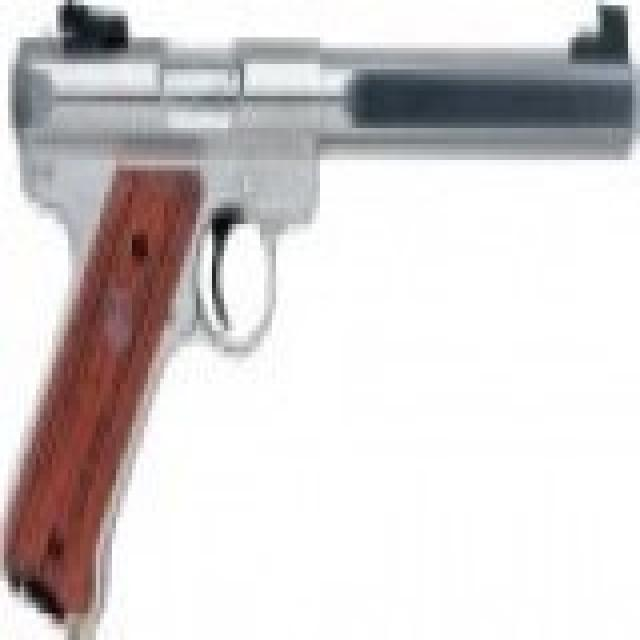Gun: (0, 0, 632, 603)
